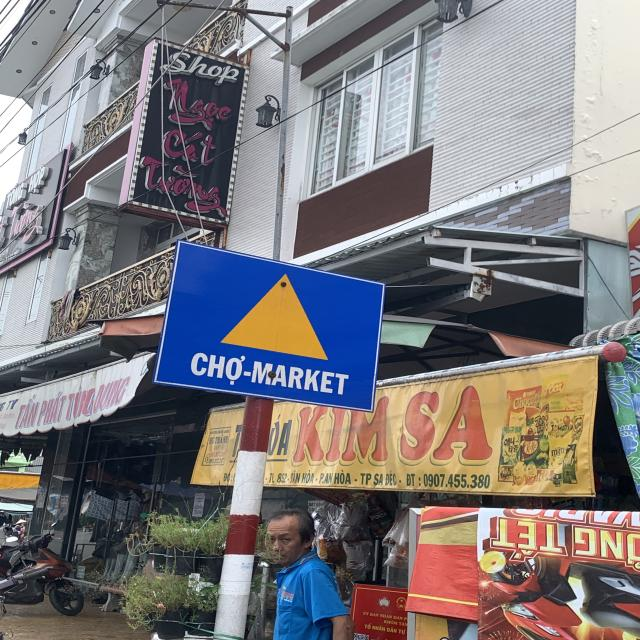Cho_Quay_Xe: (162, 236, 378, 407)
